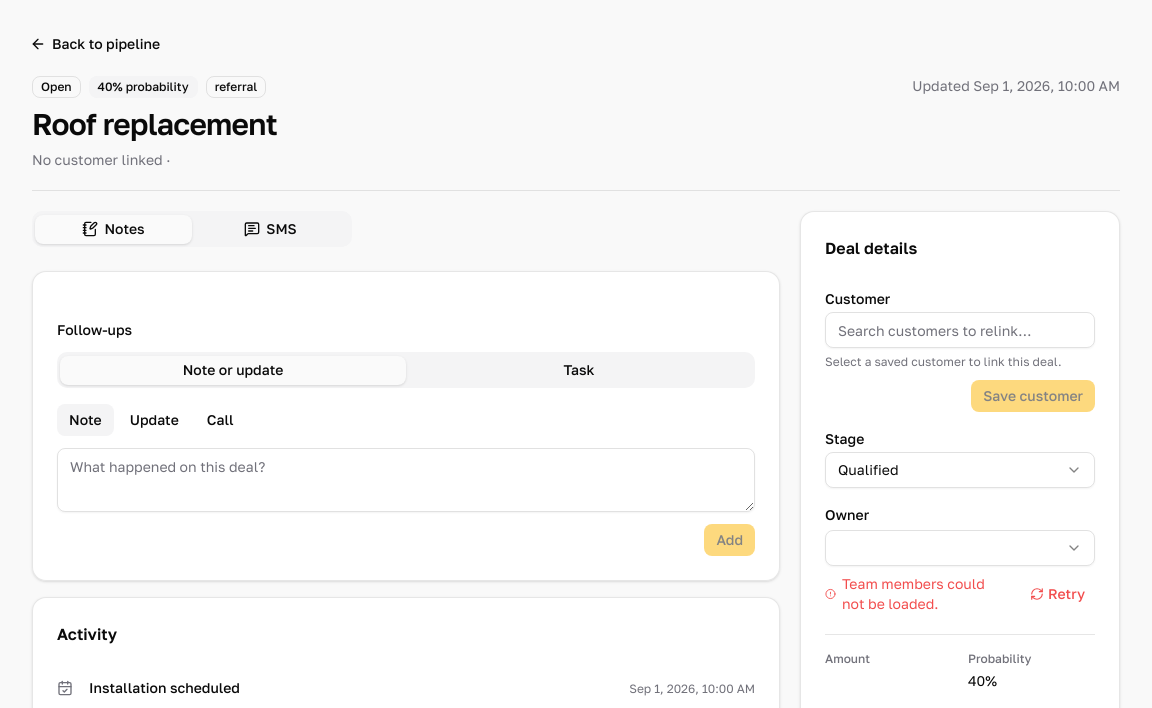
it: OpportunityWorkspace › handles a deal with no linked customer without mounting a conversation
Click the tab "SMS": (270, 229) left=192, top=214, right=349, bottom=244
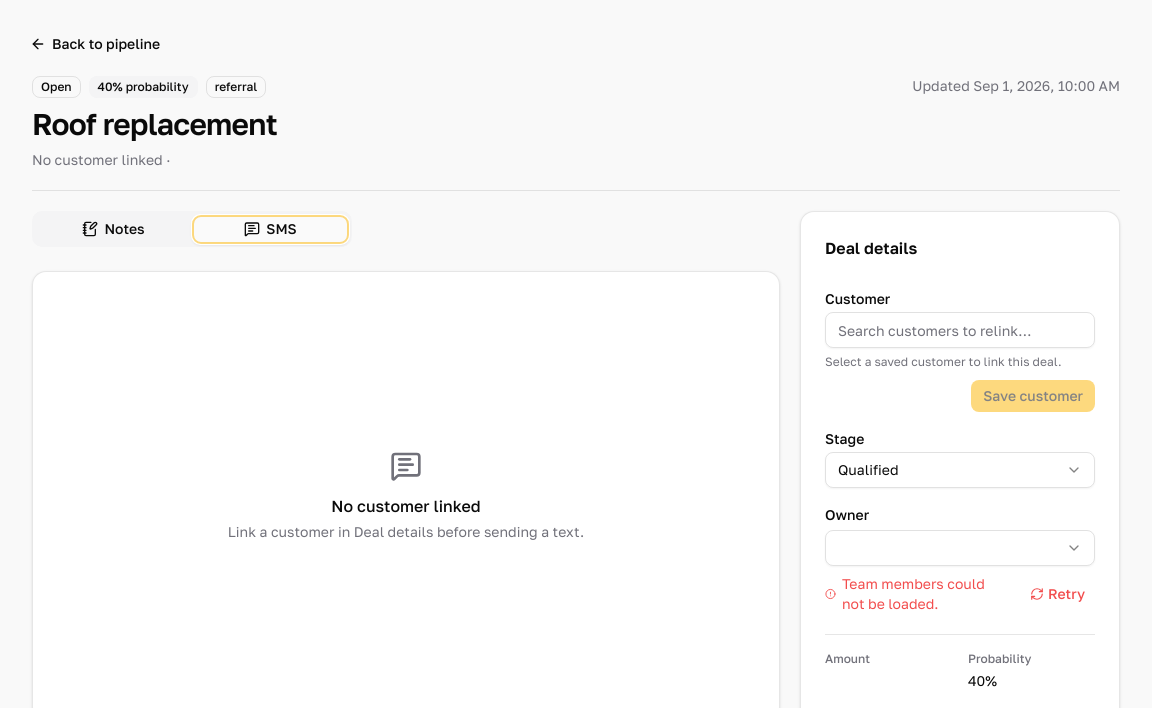
Check: the text "Link a customer in Deal details before sending a text." is shown, box left=228, top=522, right=584, bottom=542
